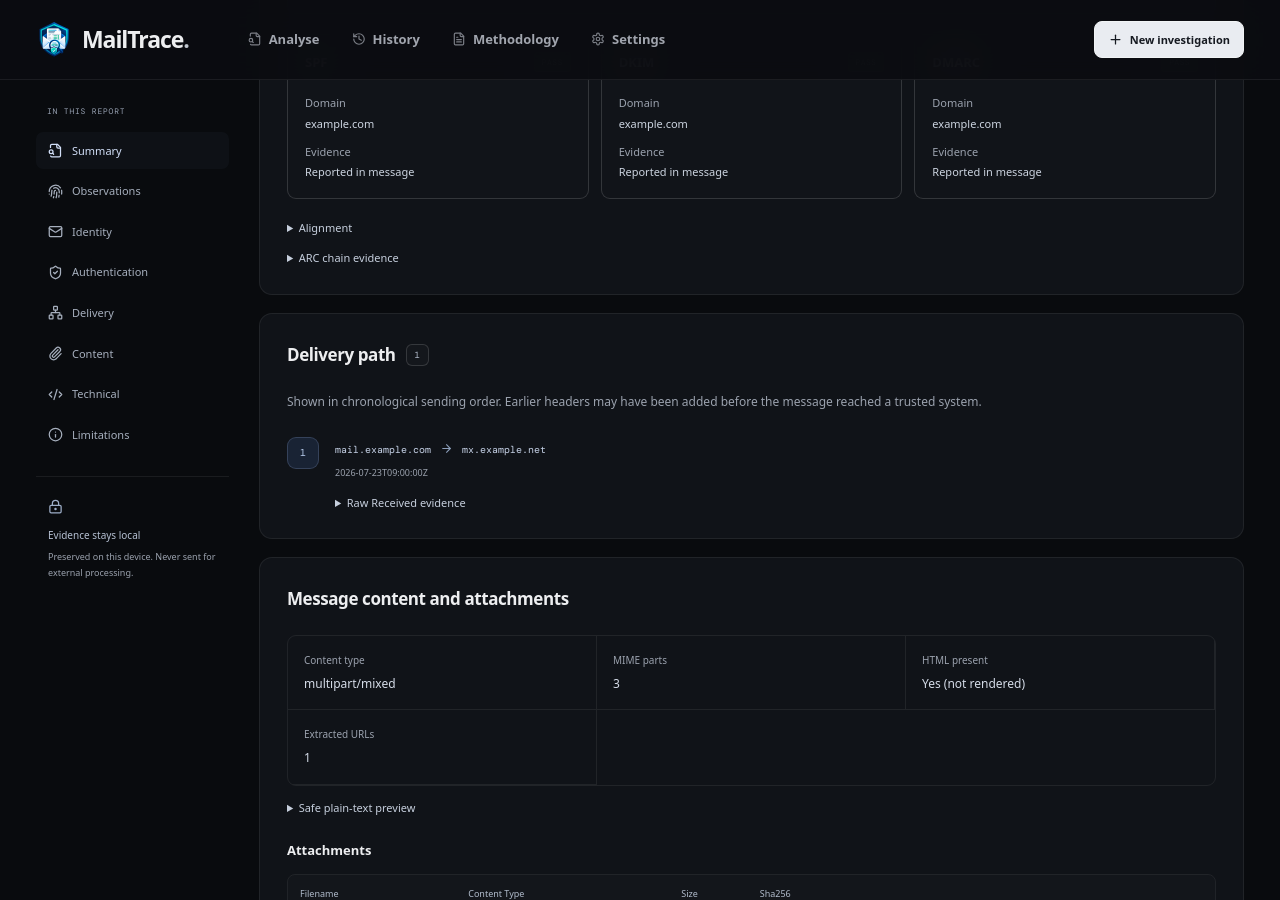
MailTrace application › renders the evidence-led report
(page scrolled)
Click the heading "Raw Received evidence" at (406,502), box 347,494 -> 466,510
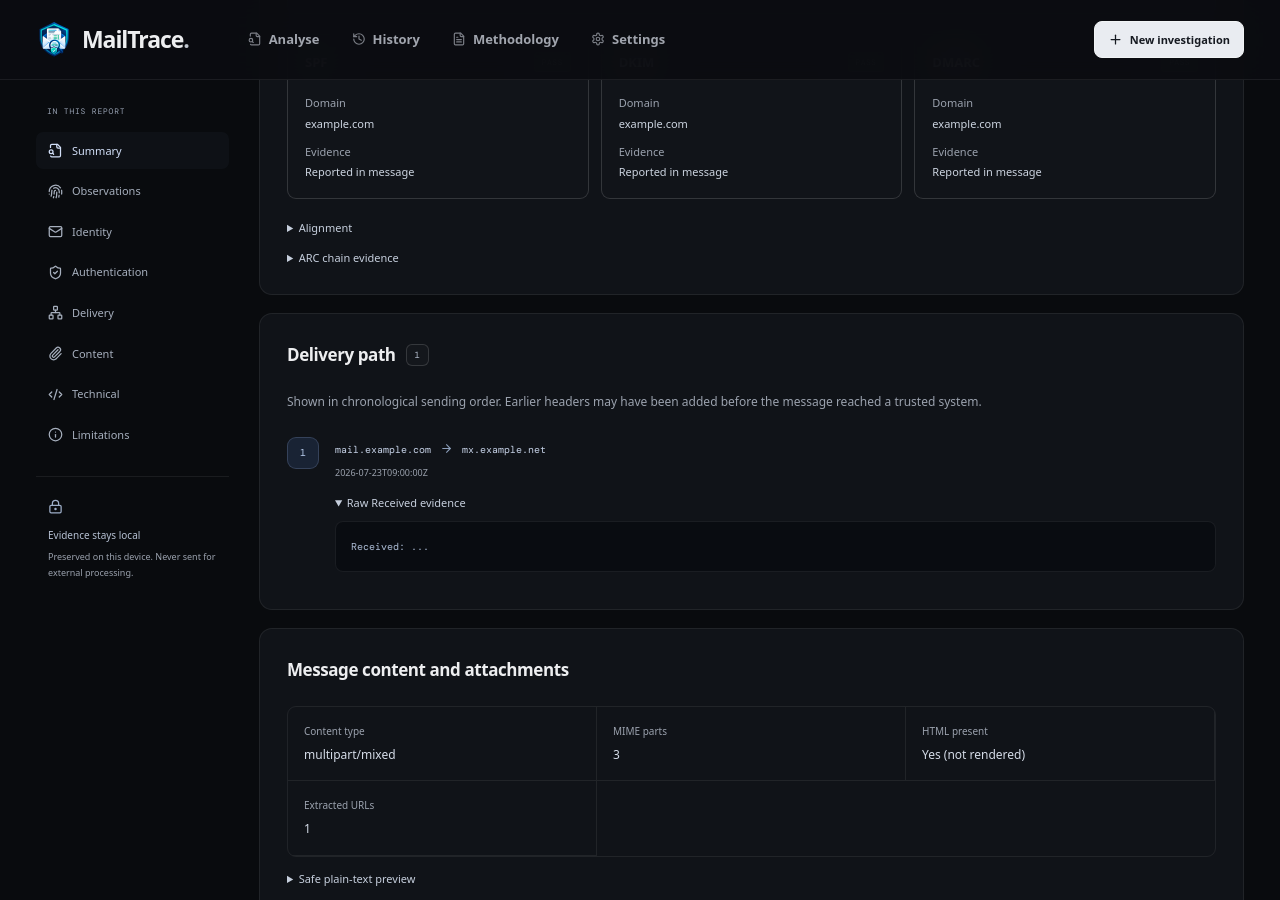
Check: the text "Received: ..." is shown, box 335,521 -> 1216,572
